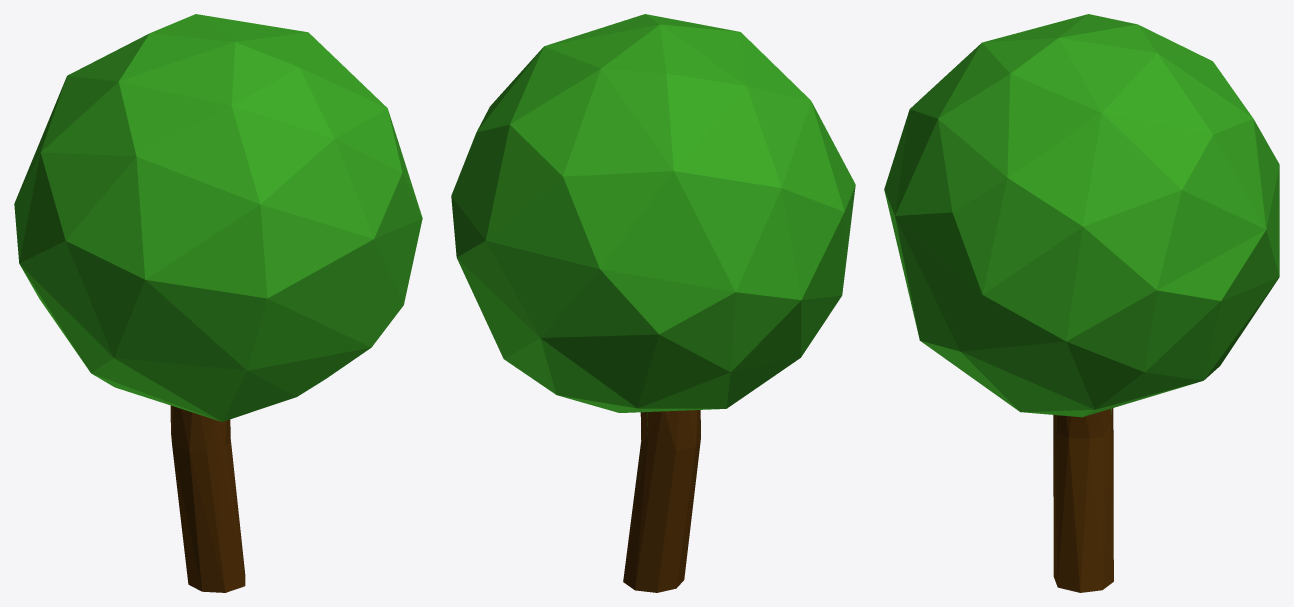
Rendered from Tree1.fbx.
The picture shows the model from 3 angles, left to right: view 1: azimuth 30°, elevation 25°; view 2: azimuth 150°, elevation 25°; view 3: azimuth 270°, elevation 25°; orthographic projection.
Visible parts, largest first — view 1: Tree2; view 2: Tree2; view 3: Tree2.
Boxes of the visible parts, bbox=[...] form: Tree2: bbox=[14, 14, 422, 592]; Tree2: bbox=[451, 14, 855, 592]; Tree2: bbox=[884, 14, 1279, 592].
Size of the model in its own units: 396 by 601 by 395.
